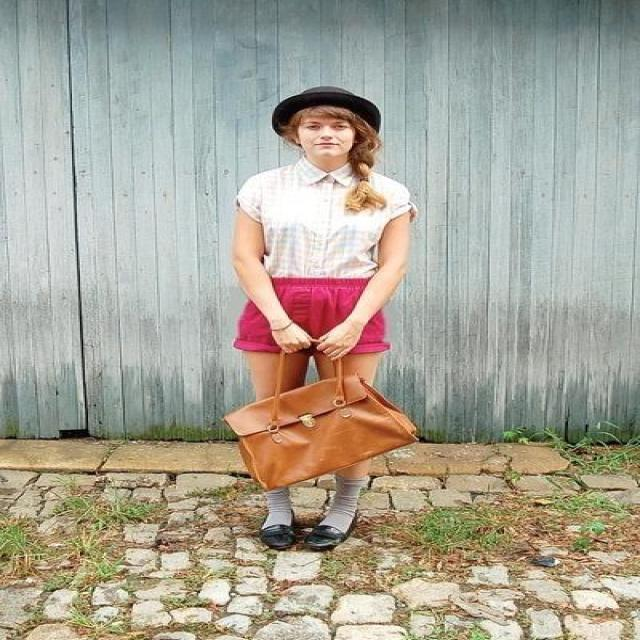bag: (224, 371, 414, 489)
hat: (272, 93, 379, 131)
shirt: (237, 150, 416, 278)
shoe: (243, 513, 346, 554)
shorts: (234, 274, 388, 354)
